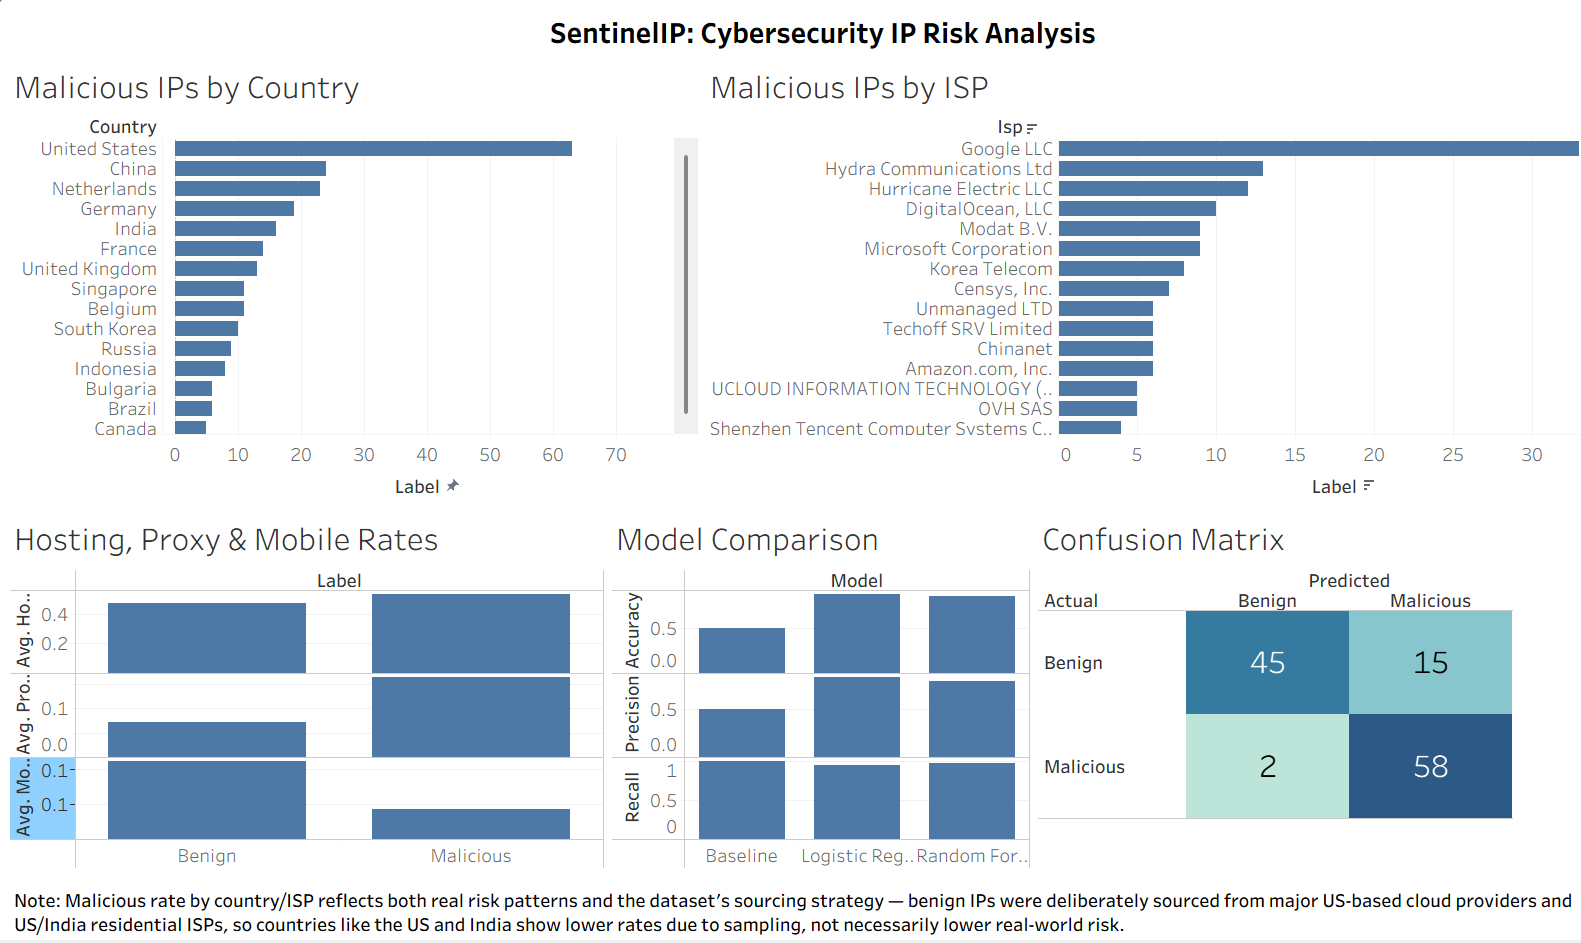

What the dashboard file says about the page in this screenshot:
{"tool":"tableau","page":{"name":"Dashboard 1","canvas":[1000,1000],"units":"permille","ordinal":0},"visuals":[{"type":"text","box":[4.9,8.3,990.3,52.6]},{"type":"worksheet","title":"Malicious IPs by Country","mark":"Automatic","rows":["country"],"cols":["label"],"box":[4.9,60.9,421.8,471.2]},{"type":"worksheet","title":"Malicious IPs by ISP","mark":"Automatic","rows":["isp"],"cols":["label"],"box":[426.7,60.9,568.5,471.2]},{"type":"worksheet","title":"Hosting, Proxy & Mobile Rates","mark":"Automatic","rows":["hosting","proxy","mobile"],"cols":["label"],"box":[4.9,532.1,364.8,380.4]},{"type":"worksheet","title":"Model Comparison","mark":"Automatic","rows":["accuracy","precision","recall"],"cols":["model"],"box":[369.7,532.1,258.4,380.4]},{"type":"worksheet","title":"Confusion Matrix","mark":"Square","rows":["actual"],"cols":["predicted"],"box":[628.1,532.1,367.1,380.4]},{"type":"text","box":[4.9,912.5,990.3,79.2]}]}

Visuals, with their boxes on the dashboard's canvas, which has no fixed pixel size, in thousandths of its width and height (x1, y1, x2, y2). These are canvas units, not pixel positions in the 1581x943 screenshot, which may show the page scaled, cropped or inside an application window:
text: [5, 8, 995, 61]
"Malicious IPs by Country" worksheet: [5, 61, 427, 532]
"Malicious IPs by ISP" worksheet: [427, 61, 995, 532]
"Hosting, Proxy & Mobile Rates" worksheet: [5, 532, 370, 912]
"Model Comparison" worksheet: [370, 532, 628, 912]
"Confusion Matrix" worksheet (Square marks): [628, 532, 995, 912]
text: [5, 912, 995, 992]
